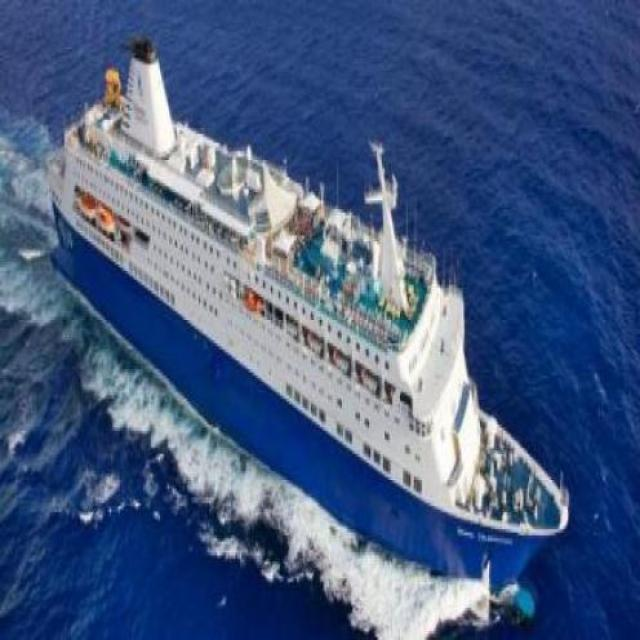boat: (36, 63, 574, 568)
